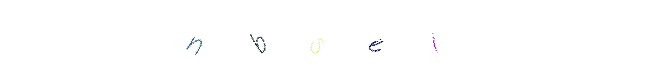B: (253, 0, 333, 80)
E: (292, 0, 372, 80)
I: (292, 0, 372, 80)
N: (205, 0, 285, 80)
S: (279, 0, 359, 80)
